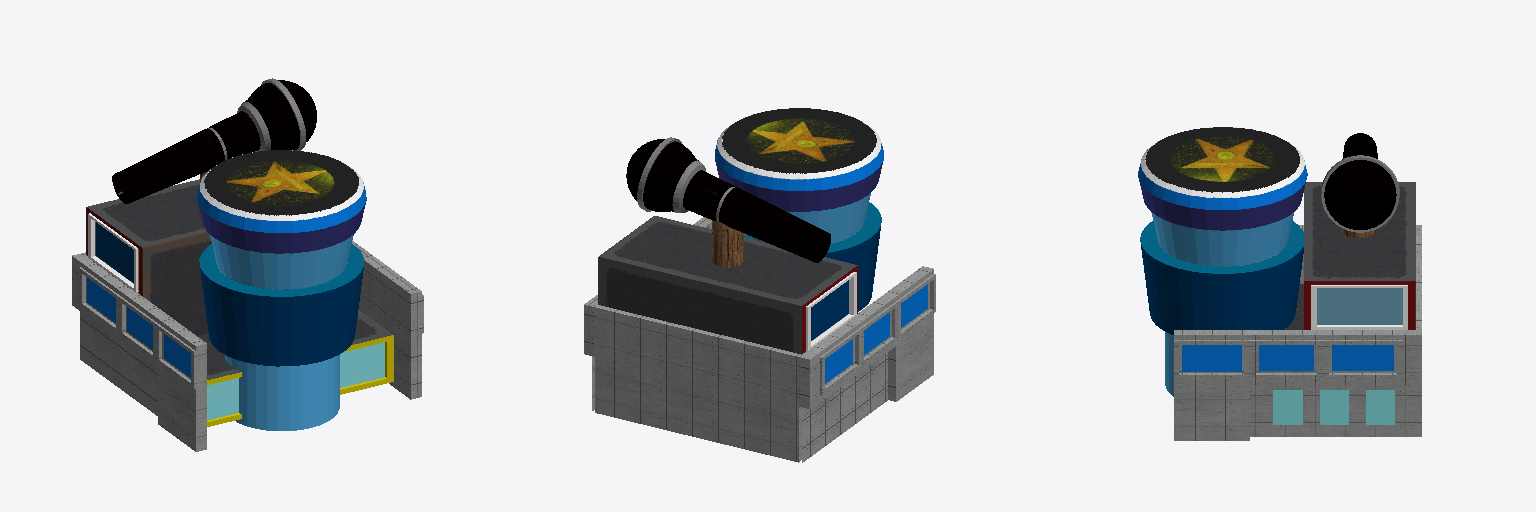
3 views of the same model, side by side, from view 1: azimuth 30°, elevation 25°; view 2: azimuth 150°, elevation 25°; view 3: azimuth 270°, elevation 25° (orthographic).
Parts seen in each view (by area): view 1: Cylinder, Cube_Cube.001, Cube.001_Cube.003, Cylinder.002; view 2: Cube_Cube.001, Cube.001_Cube.003, Cylinder, Cylinder.002, Cylinder.001; view 3: Cylinder, Cube_Cube.001, Cube.001_Cube.003, Cylinder.002, Glass.
Part boxes in pixels (x1,y1,x2,y2): Cylinder: (197, 150, 366, 430); Cube_Cube.001: (72, 240, 423, 451); Cube.001_Cube.003: (86, 179, 393, 426); Cylinder.002: (112, 78, 316, 203); Cube_Cube.001: (584, 217, 935, 462); Cube.001_Cube.003: (598, 216, 857, 354); Cylinder: (715, 108, 883, 311); Cylinder.002: (626, 137, 830, 262); Cylinder.001: (712, 220, 743, 267); Cylinder: (1138, 127, 1307, 396); Cube_Cube.001: (1174, 225, 1421, 440); Cube.001_Cube.003: (1284, 182, 1415, 329); Cylinder.002: (1321, 133, 1399, 232); Glass: (1273, 390, 1394, 424).
Bounding box in the file's own units: 2.85 × 3.07 × 3.05.
Materials: 1 (1 with a texture image).